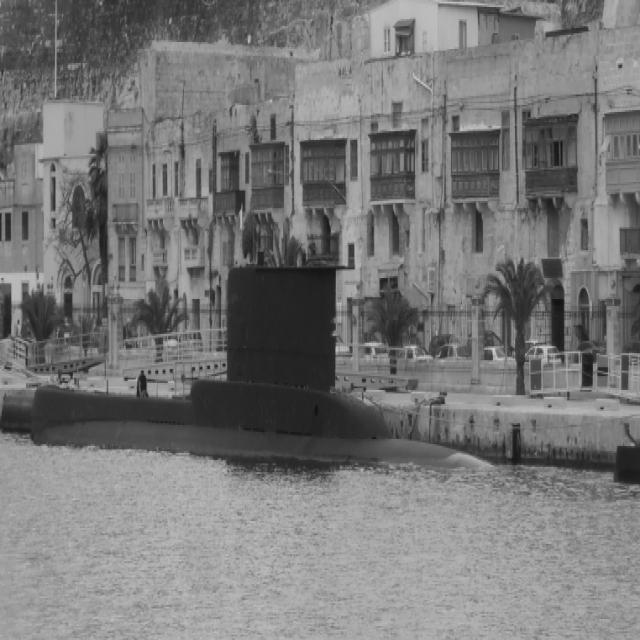submarine: (29, 258, 503, 475)
